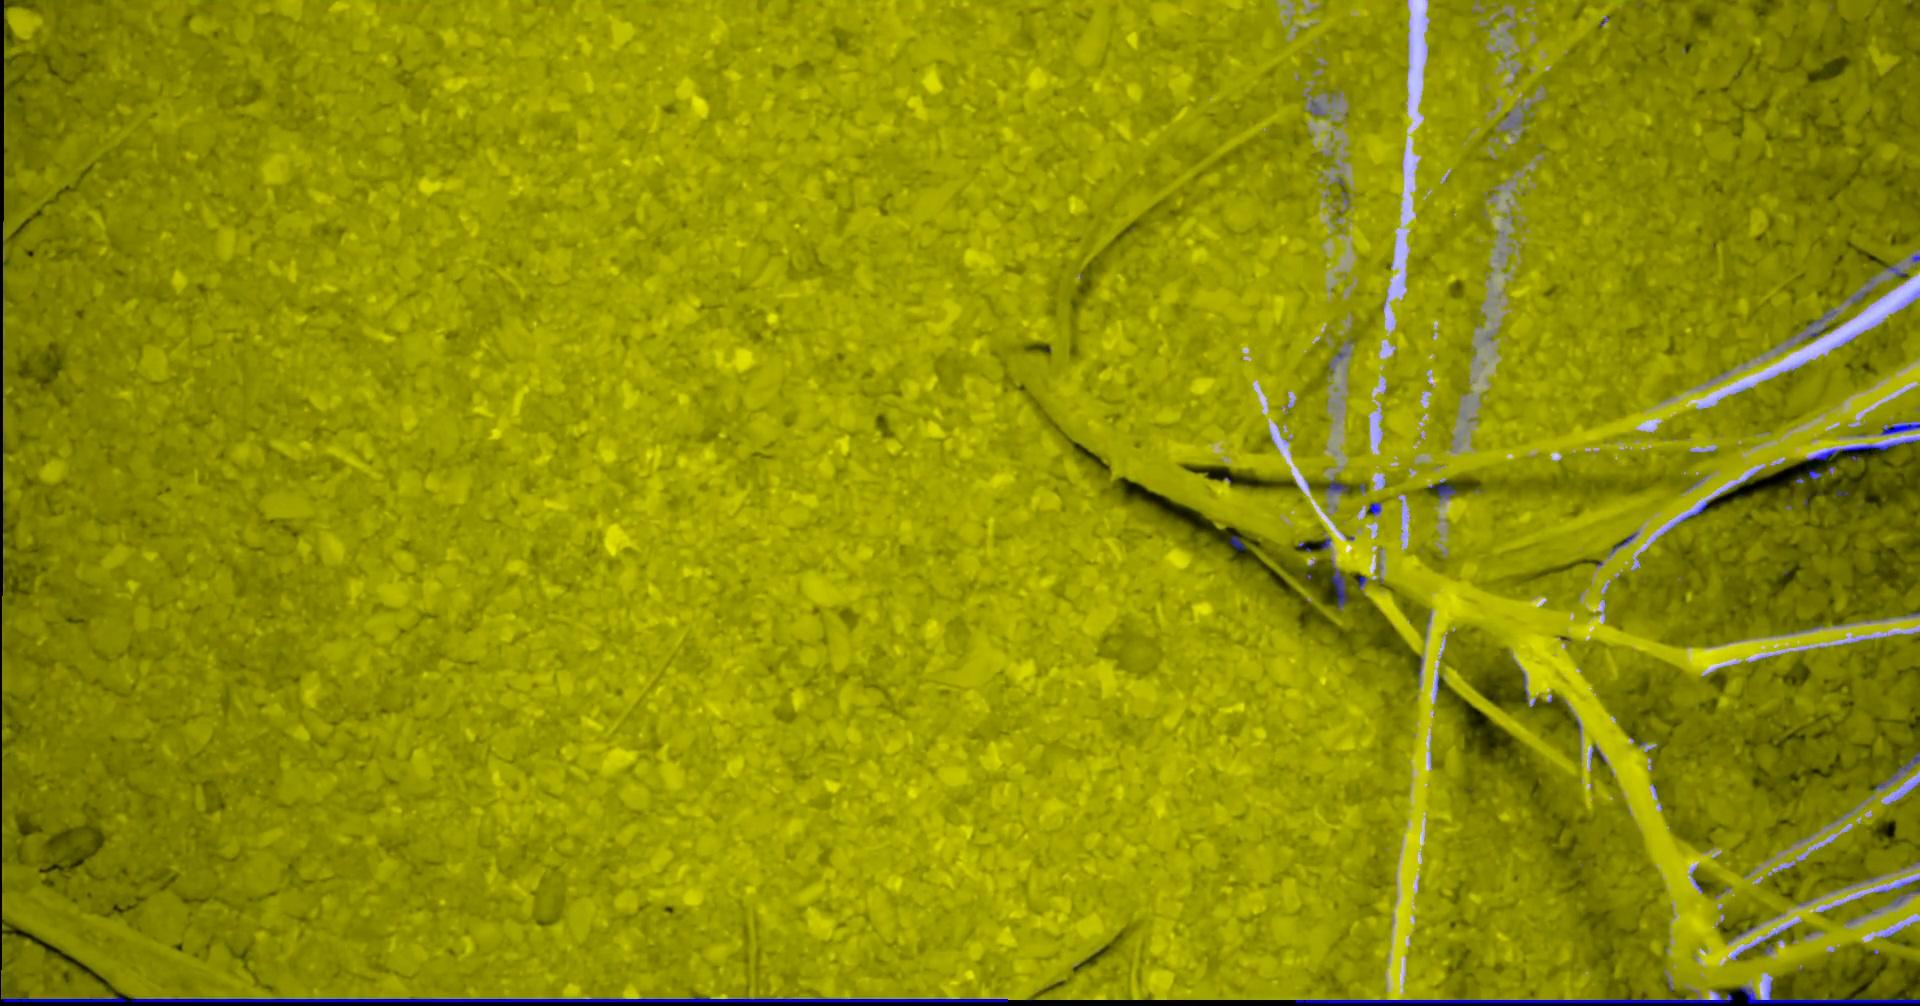ant: (1806, 439, 1919, 460), (1887, 751, 1919, 780), (1331, 567, 1349, 607), (1429, 480, 1457, 498), (1879, 423, 1919, 434), (1324, 480, 1349, 492), (1228, 535, 1244, 550), (1368, 502, 1380, 514)
